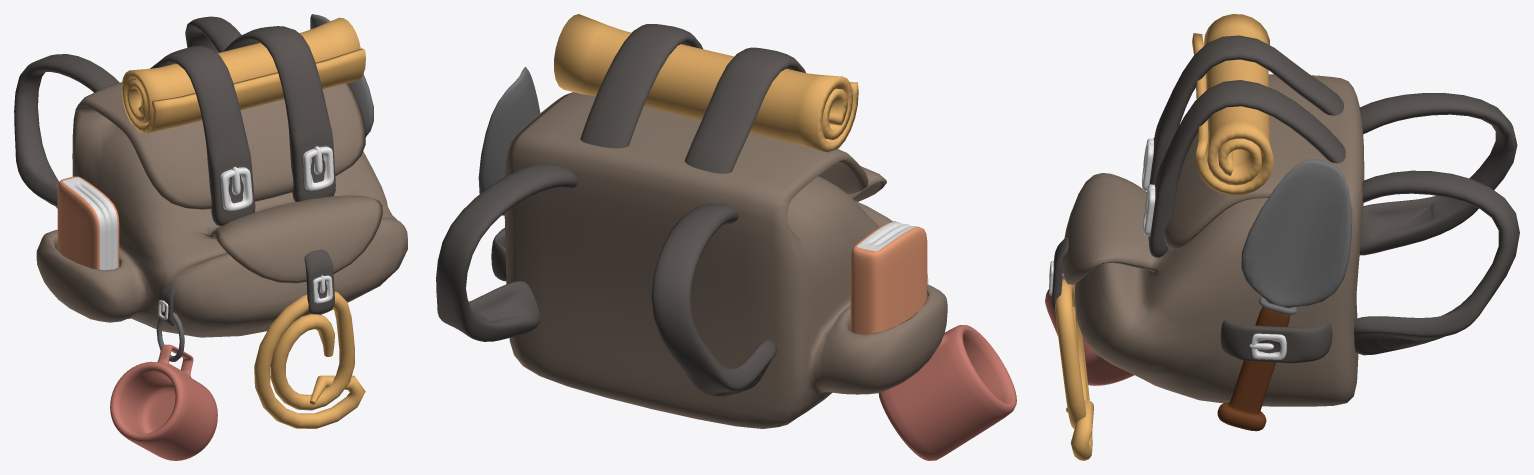
Rendered from kronos-bag.fbx.
The picture shows the model from 3 angles, left to right: view 1: azimuth 30°, elevation 25°; view 2: azimuth 150°, elevation 25°; view 3: azimuth 270°, elevation 25°; orthographic projection. The views are drawn at different scales.
Visible parts, largest first — view 1: bag; view 2: bag; view 3: bag.
Boxes of the visible parts, box(x1,y1,x2,y2) form: bag: box(14, 14, 407, 460); bag: box(436, 14, 1016, 460); bag: box(1045, 14, 1519, 460).
Bounding box in the file's own units: 0.8513 × 0.8592 × 0.9488.
